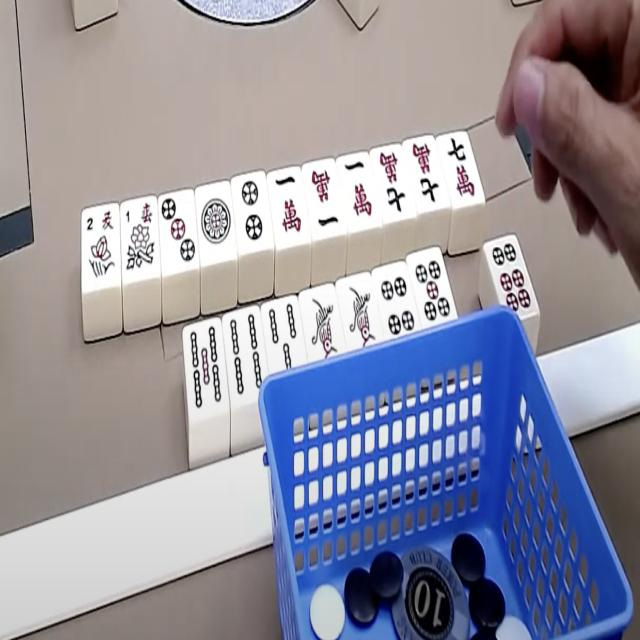ff1: (121, 199, 158, 277)
ff2: (82, 208, 120, 285)
m1: (268, 169, 310, 244), (306, 162, 345, 235), (340, 154, 380, 224)
m7: (374, 146, 414, 218), (440, 134, 480, 204), (407, 140, 446, 210)
s1: (340, 276, 382, 351), (302, 288, 344, 362)
s3: (262, 298, 308, 373)
s4: (222, 307, 268, 400)
s5: (183, 319, 228, 415)
t1: (196, 187, 236, 256)
t2: (232, 173, 270, 247)
t3: (160, 191, 198, 268)
t4: (374, 265, 423, 340)
t5: (408, 248, 458, 328)
t6: (486, 236, 538, 320)
